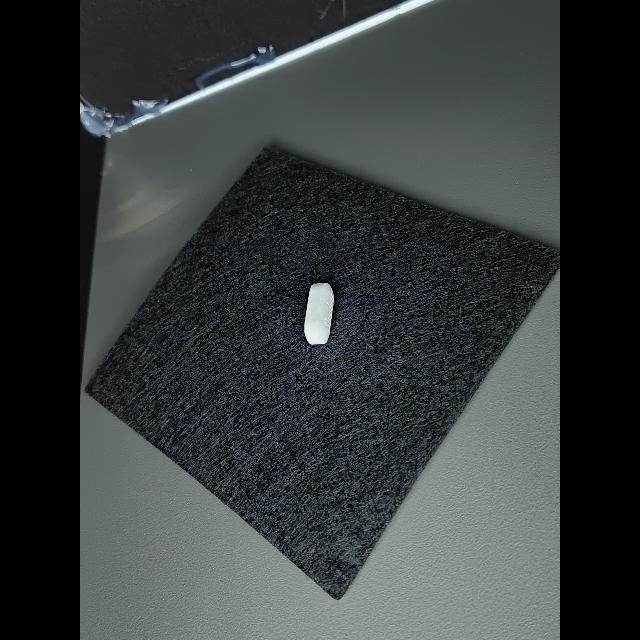Intact Pill: (304, 283, 334, 345)
